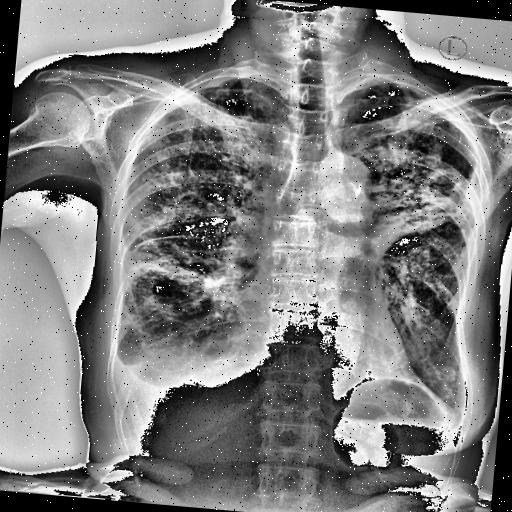10- Pleural effusion: (102, 320, 270, 415), (98, 346, 260, 422), (169, 374, 196, 377)
11- Pleural thickening: (98, 346, 260, 422), (397, 363, 481, 425)
13- Pulmonary fibrosis: (110, 61, 293, 413), (314, 82, 490, 428), (104, 212, 272, 356), (102, 262, 262, 376), (370, 136, 480, 242), (392, 248, 468, 308), (378, 192, 472, 238)
2- Calcification: (339, 174, 367, 204), (344, 172, 368, 204)
5- ILD: (110, 61, 293, 413), (314, 82, 490, 428), (341, 84, 493, 384), (148, 146, 246, 239)
6- Infiltration: (110, 61, 293, 413), (314, 82, 490, 428)
